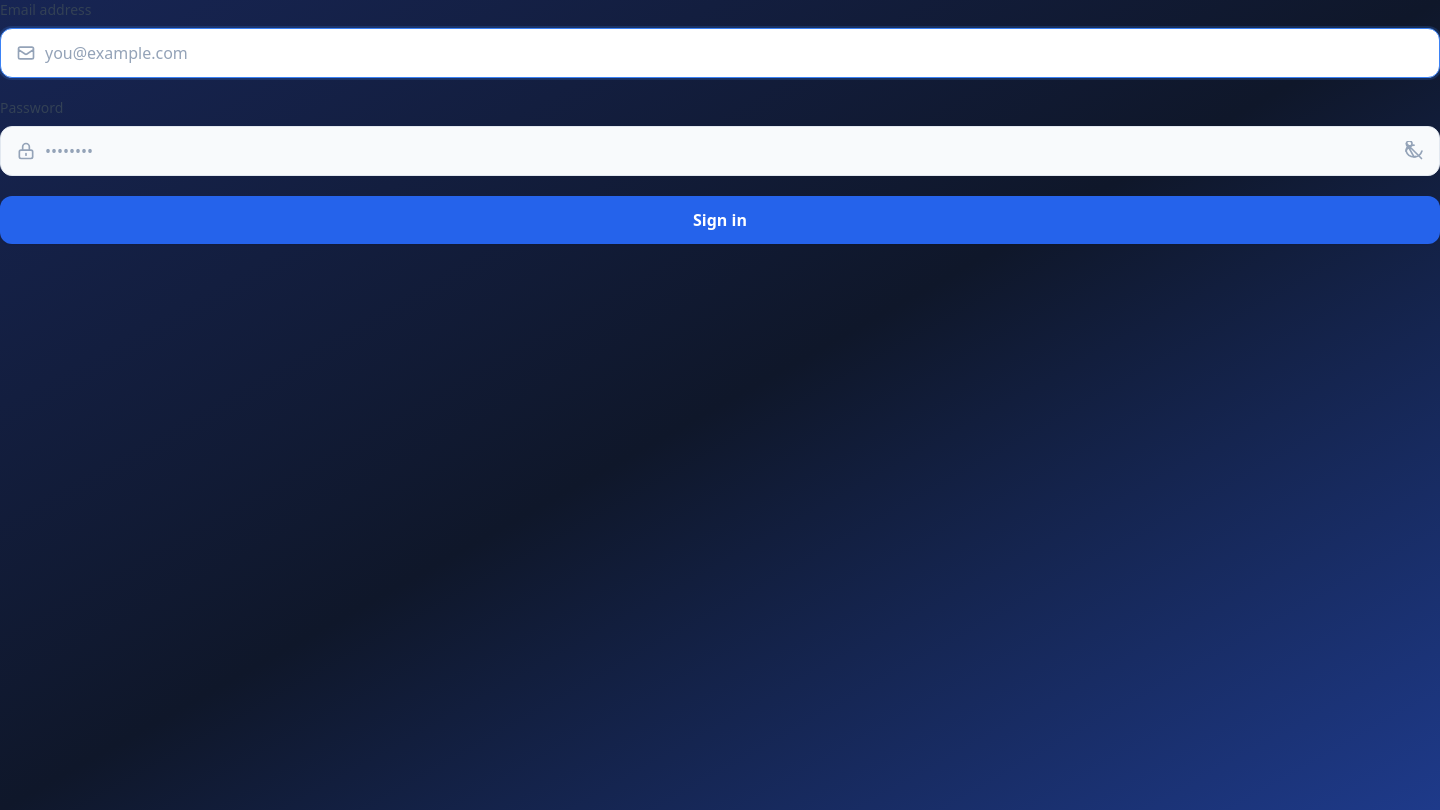
LoginForm › should validate email field
The image size is (1440, 810).
Note: Invalid email - submit should show error
Step 1. Type "invalid-email" into the field labelled "Email address" → x=720, y=53, box [0,28,1439,78]
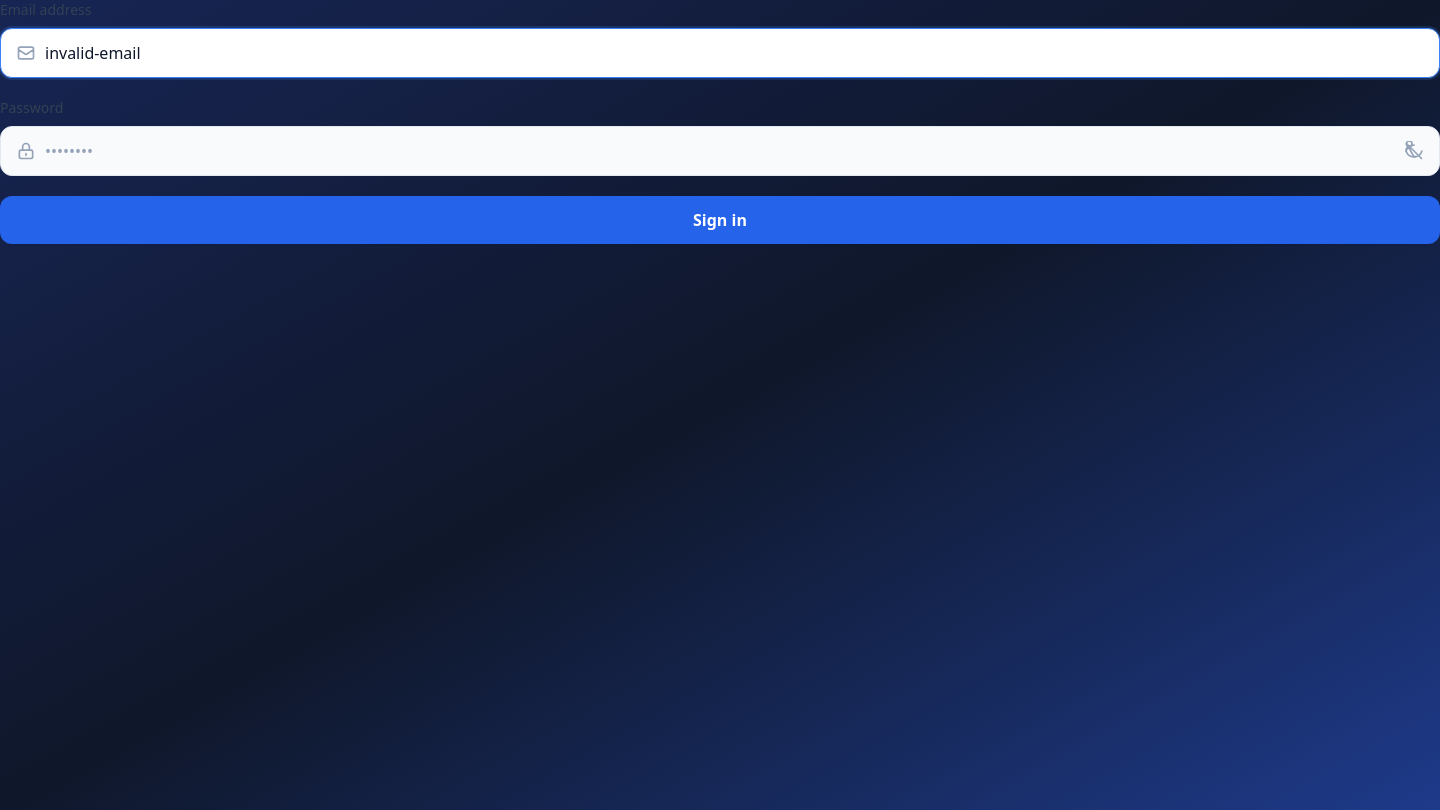
Step 2. Submit the form, box [0,0,1439,244]
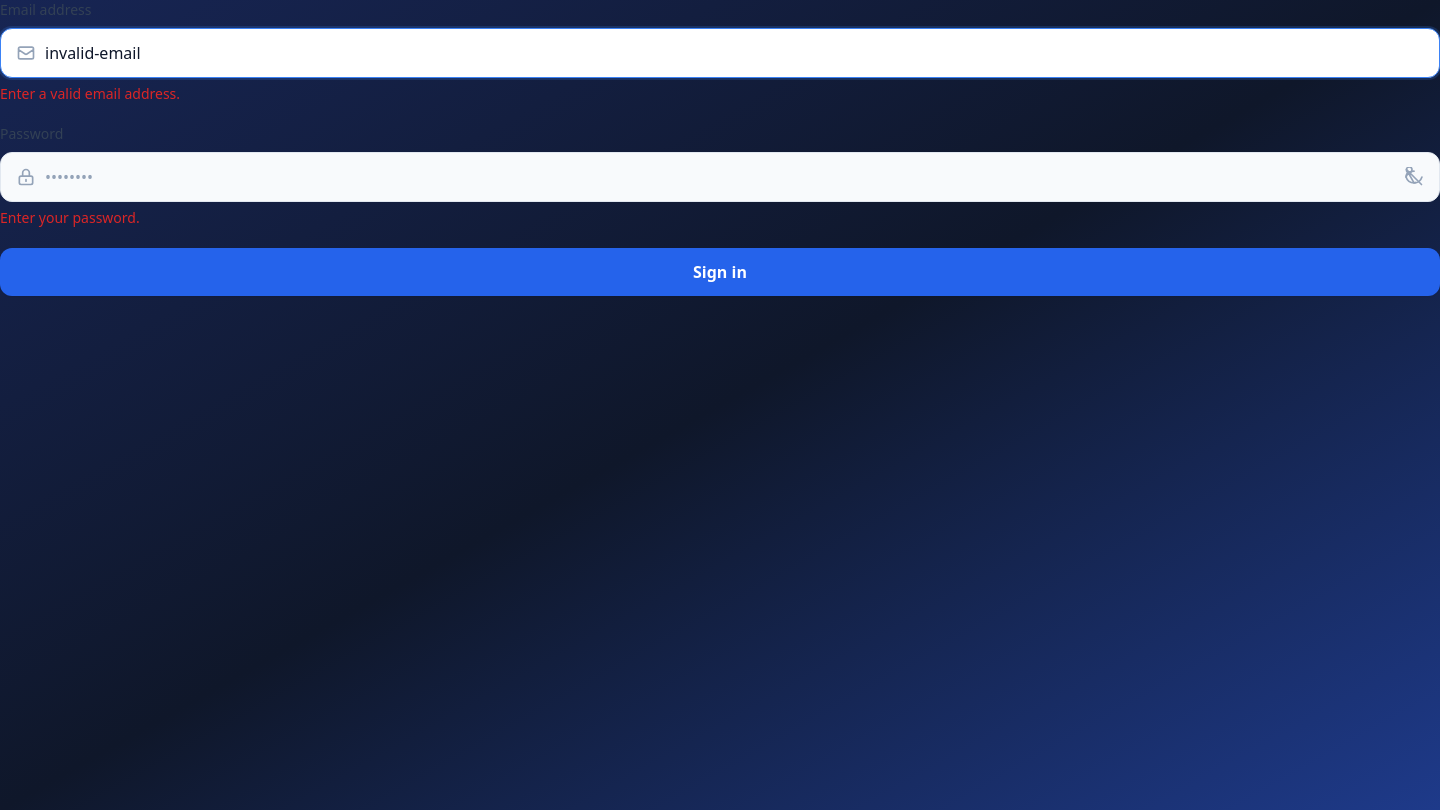
expect the text "Enter a valid email address." is shown: met, box [0,84,180,103]
Note: Fix email and re-submit - should not have error
Step 3. Replace the text in the field labelled "Email address" with "test@example.com" → x=720, y=53, box [0,28,1439,78]
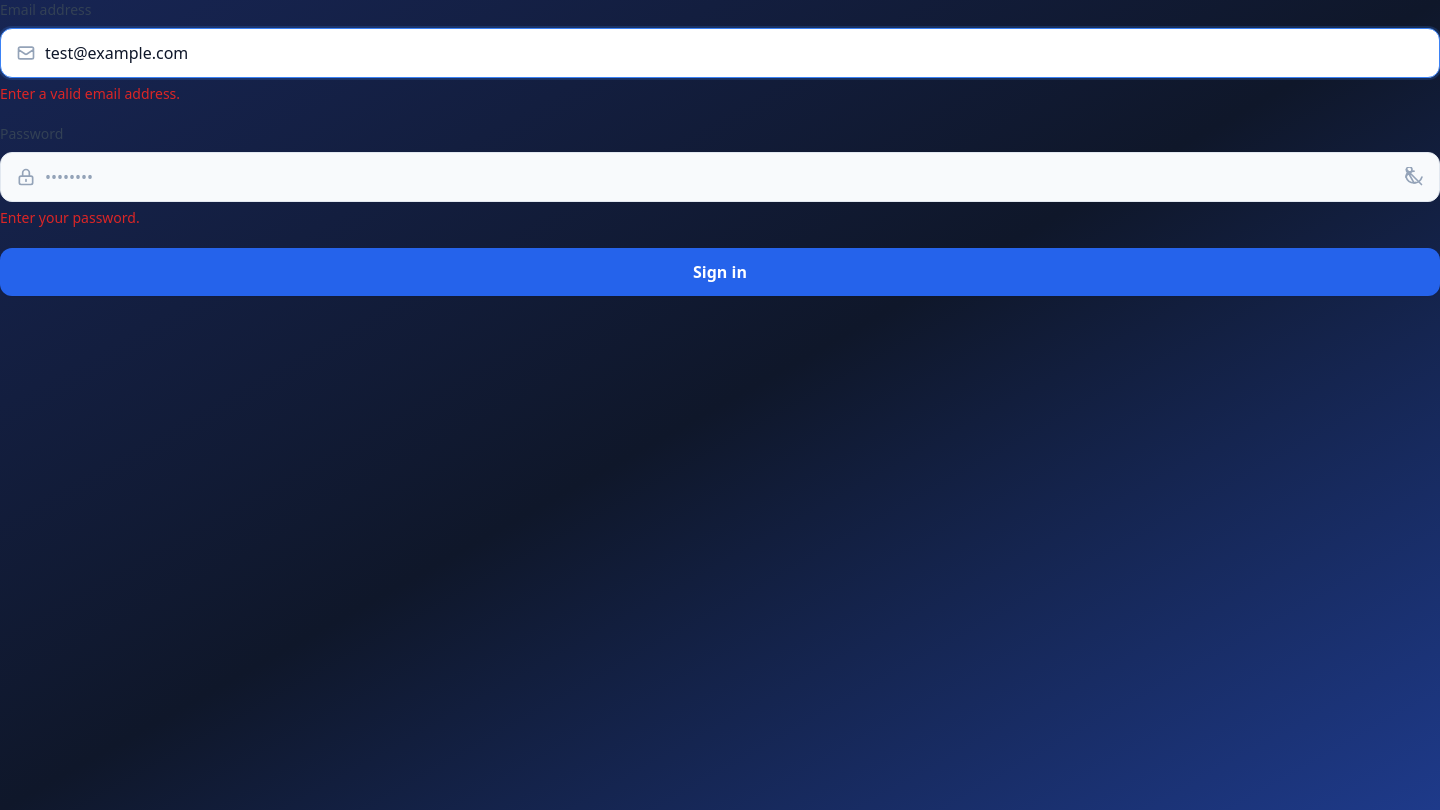
Step 4. Type "ValidPassword123" into the password field labelled "Password" → x=720, y=177, box [0,152,1439,202]
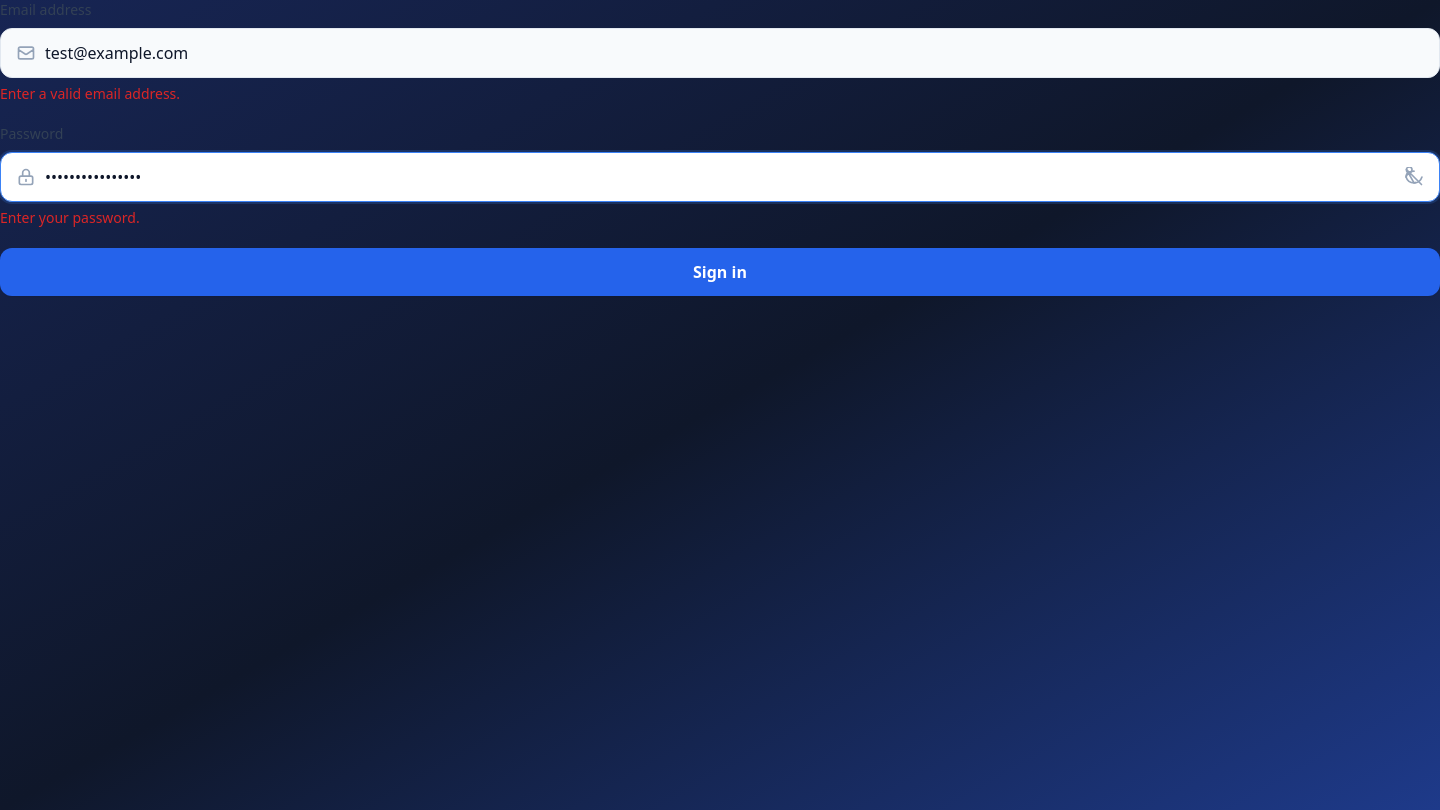
Step 5. Submit the form, box [0,0,1439,296]
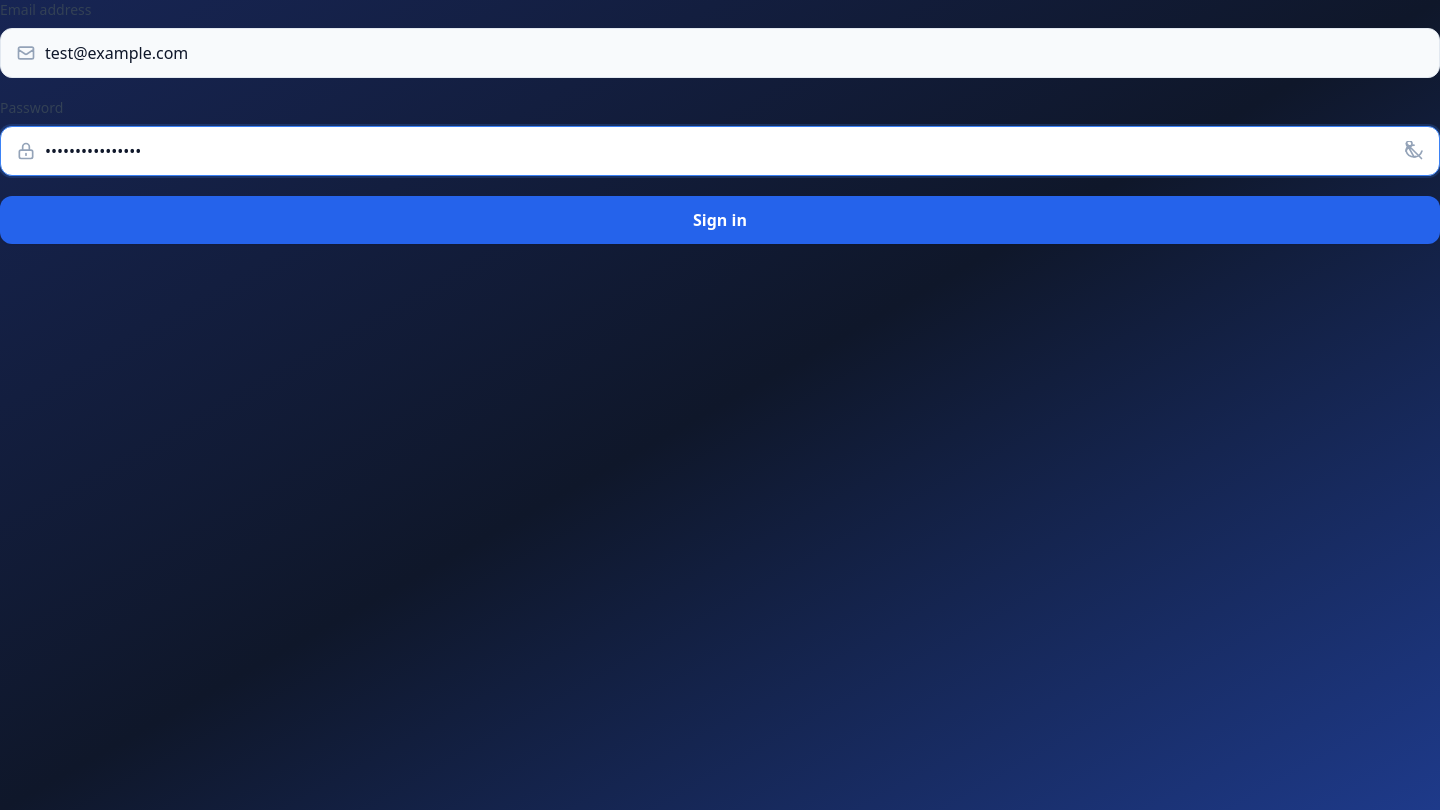
expect the text "Enter a valid email address" is gone: met
